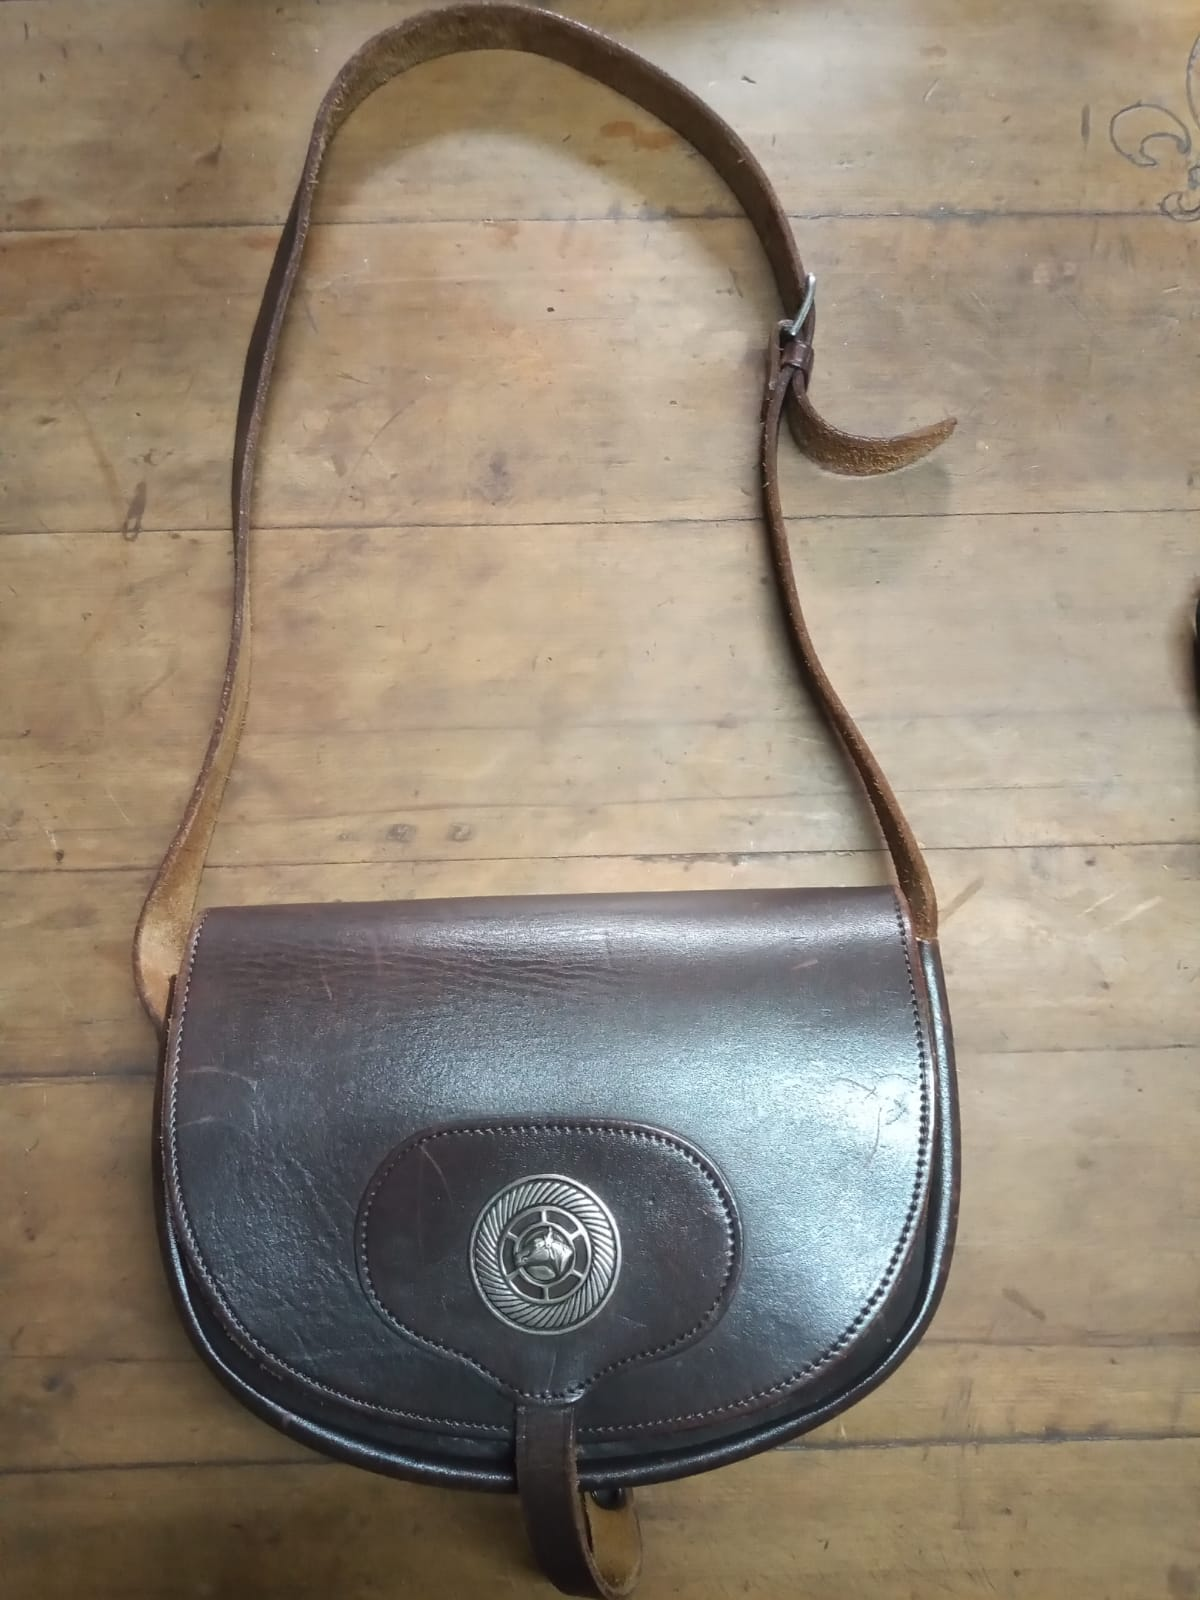cartera: (111, 1, 1030, 1600)
cuero: (134, 887, 995, 1600)
